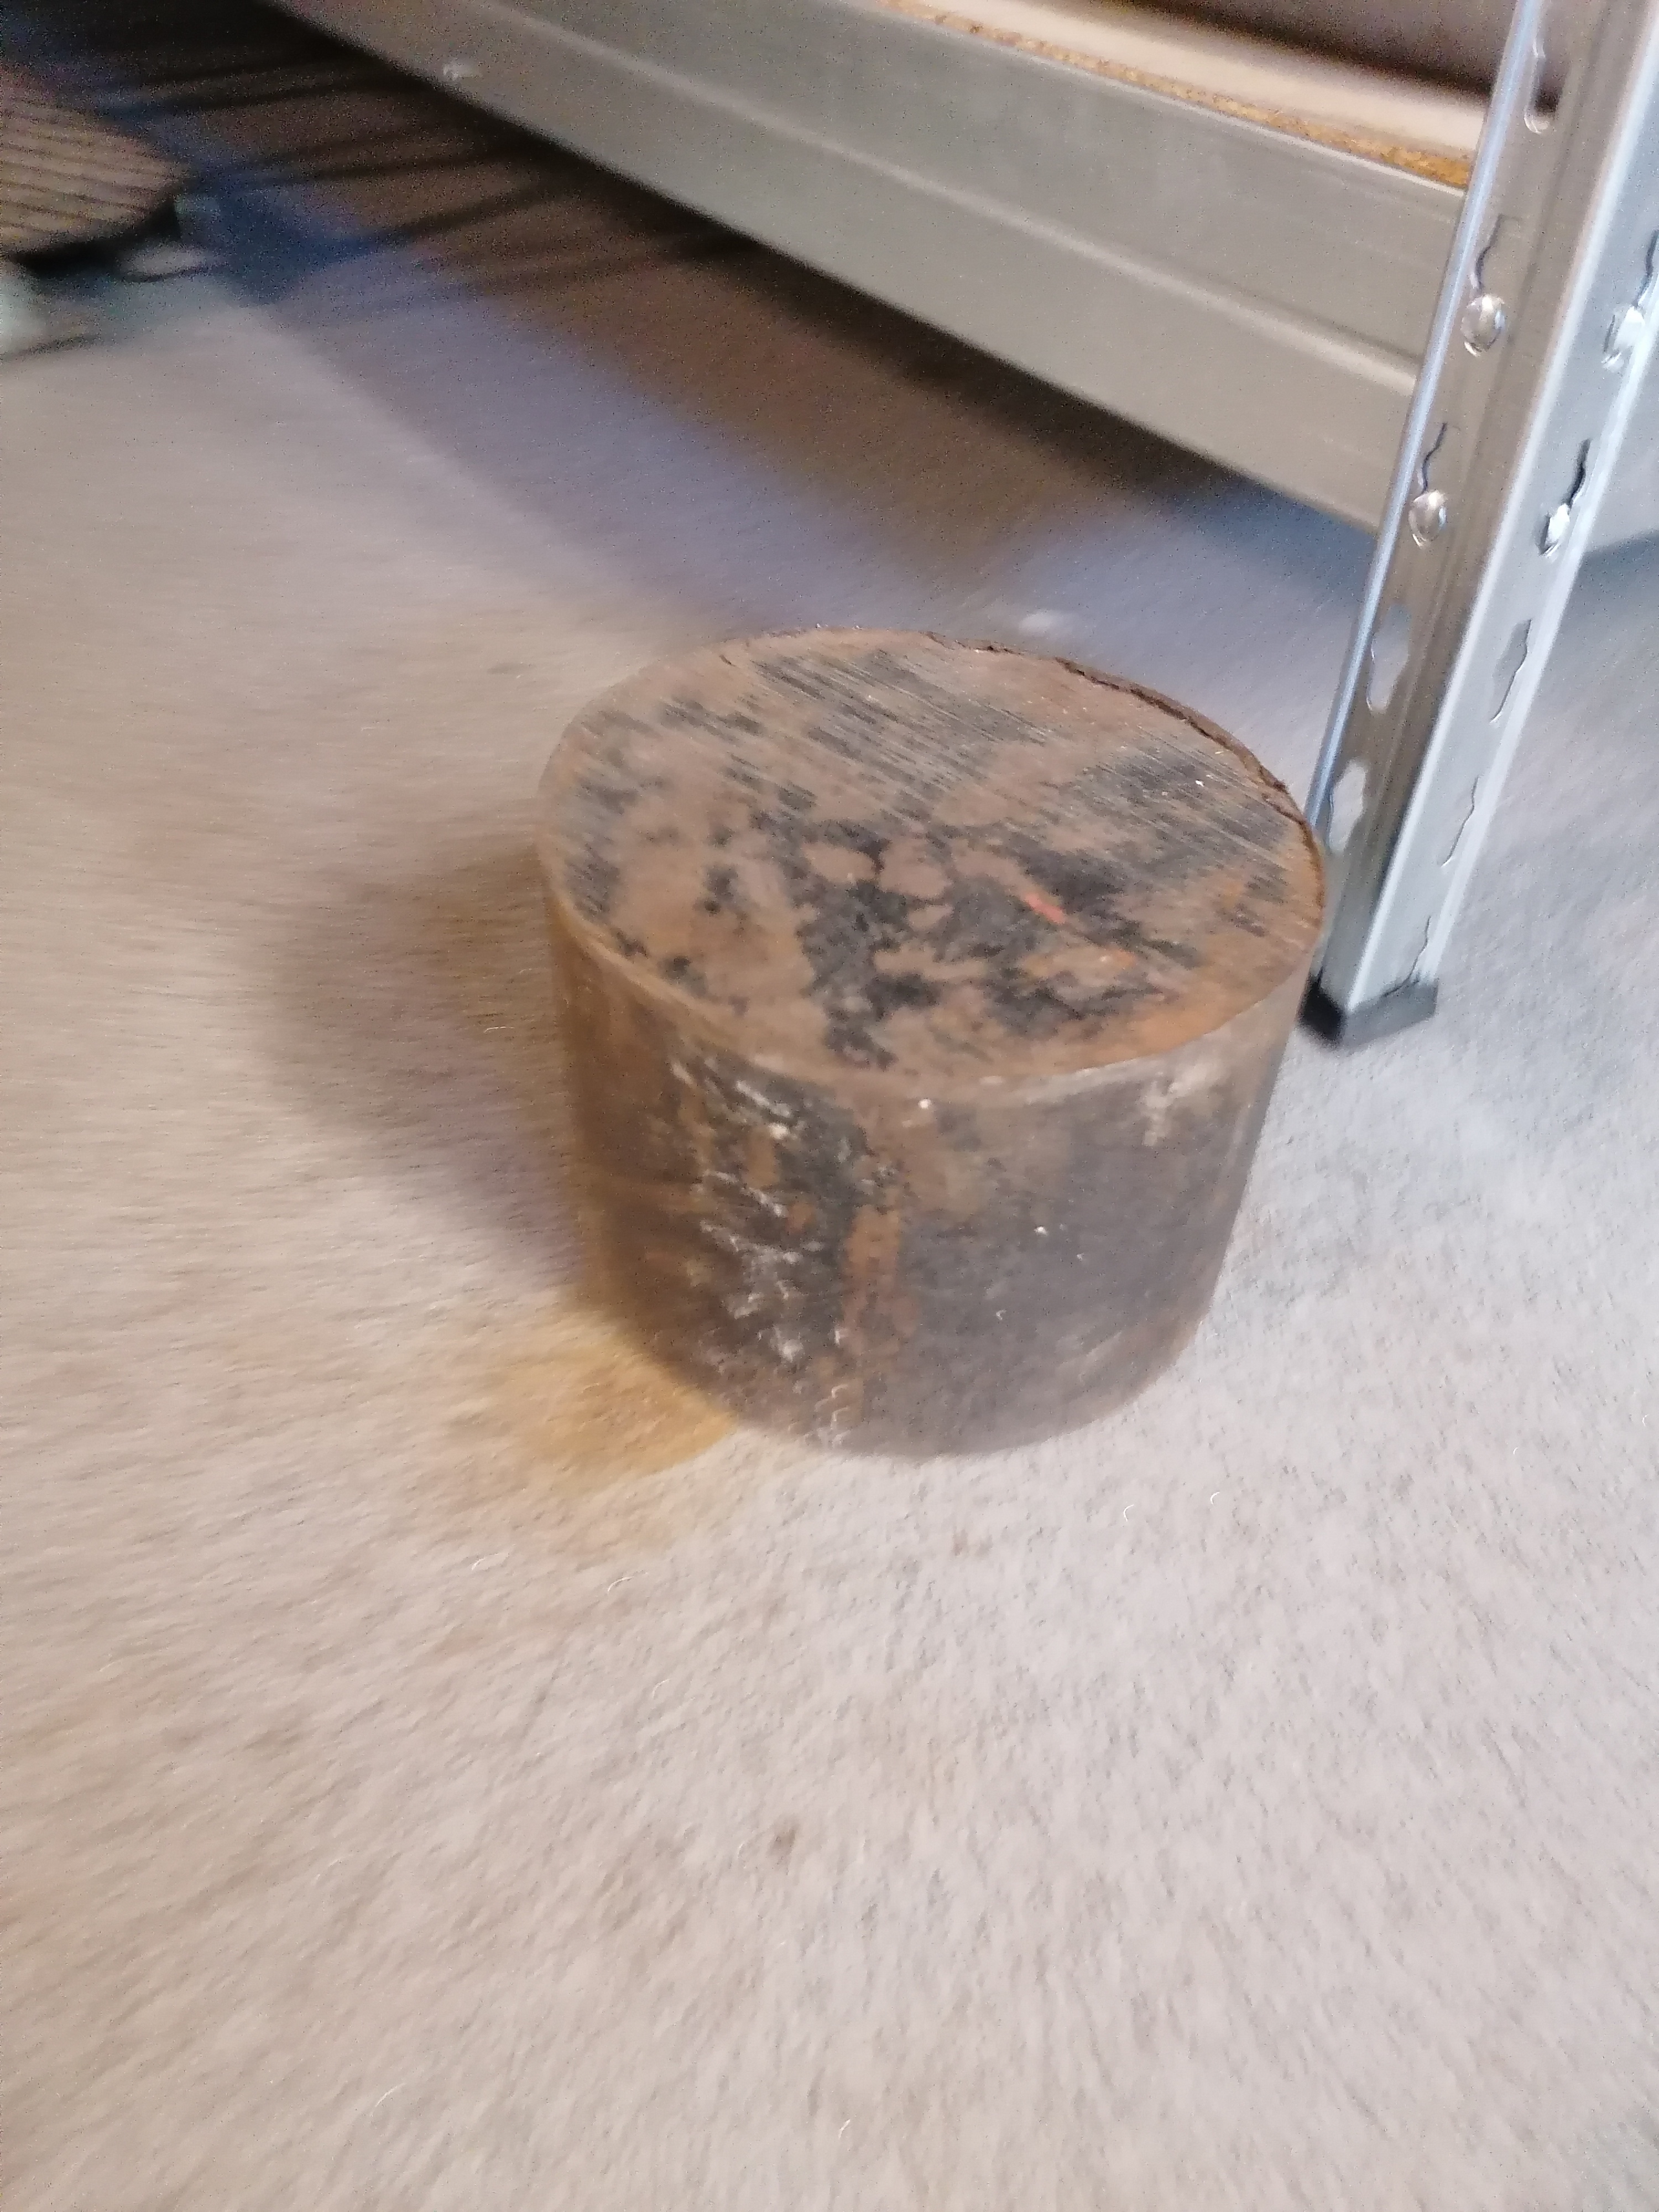lead_block: (525, 611, 1326, 1453)
